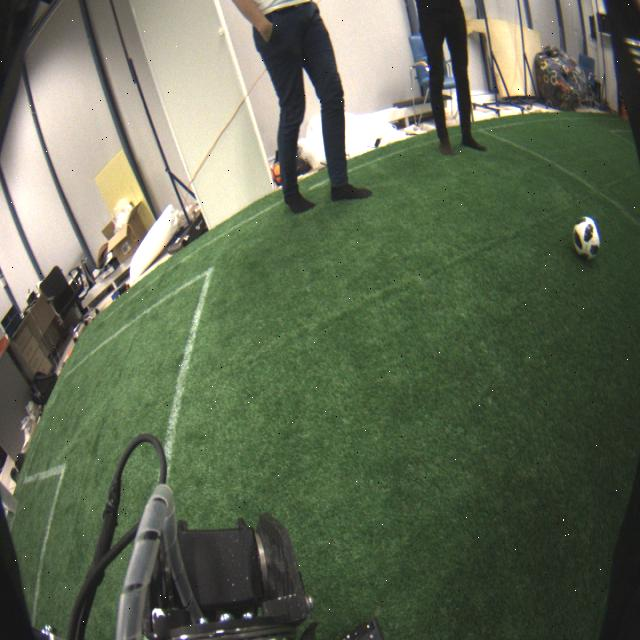ball: (572, 216, 600, 261)
goalpost: (2, 480, 21, 517)
